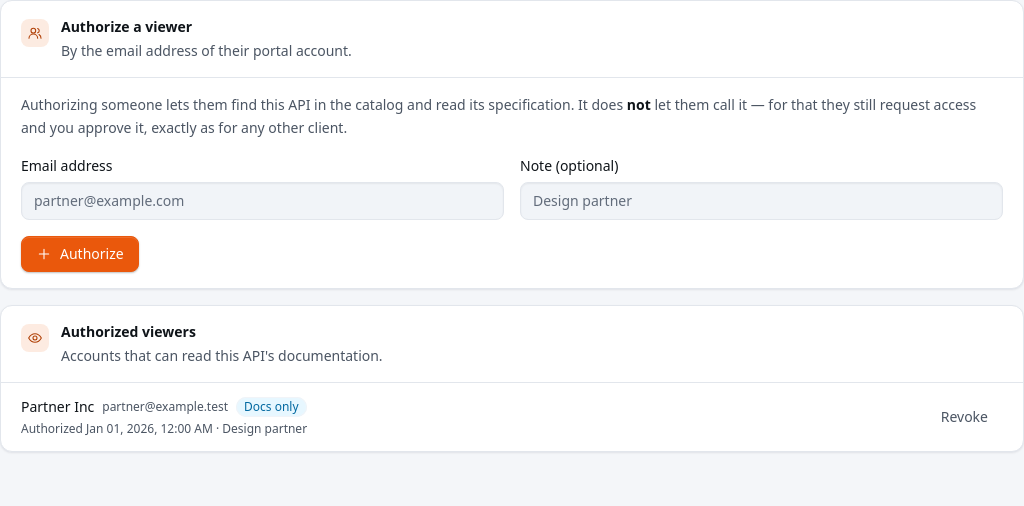
Test: private API viewers › surfaces the refusal when the address has no account
Expected: the text "Partner Inc" is shown, left=21, top=396, right=94, bottom=416
In the field labelled "Email address": (262, 200) left=21, top=182, right=504, bottom=220, type "nobody@example.test"
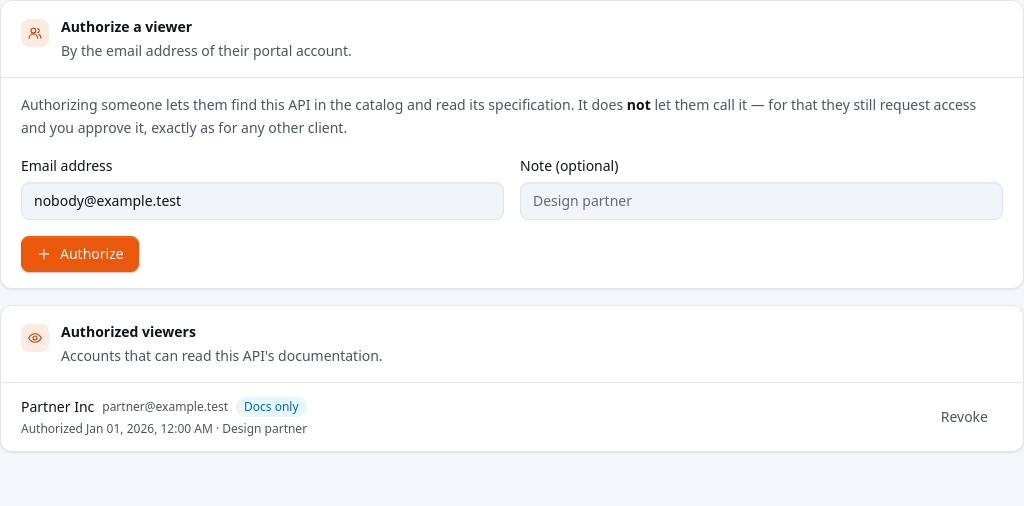
Click the button "Authorize": (80, 254) left=21, top=236, right=139, bottom=272
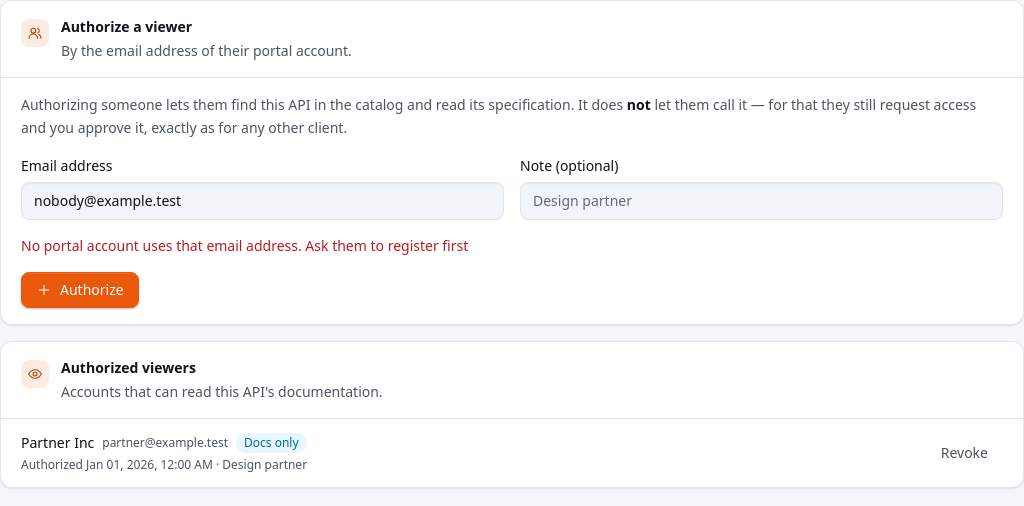
Expected: the text "register first" is shown, left=21, top=236, right=468, bottom=254
